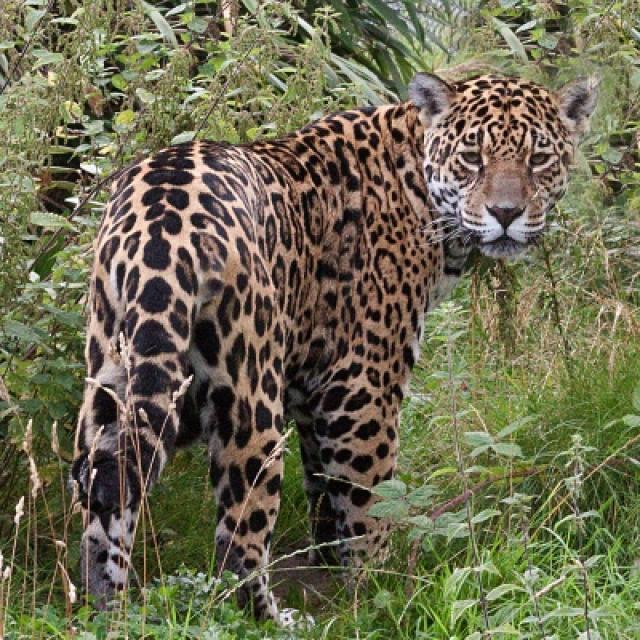Jaguar: (69, 75, 602, 624)
